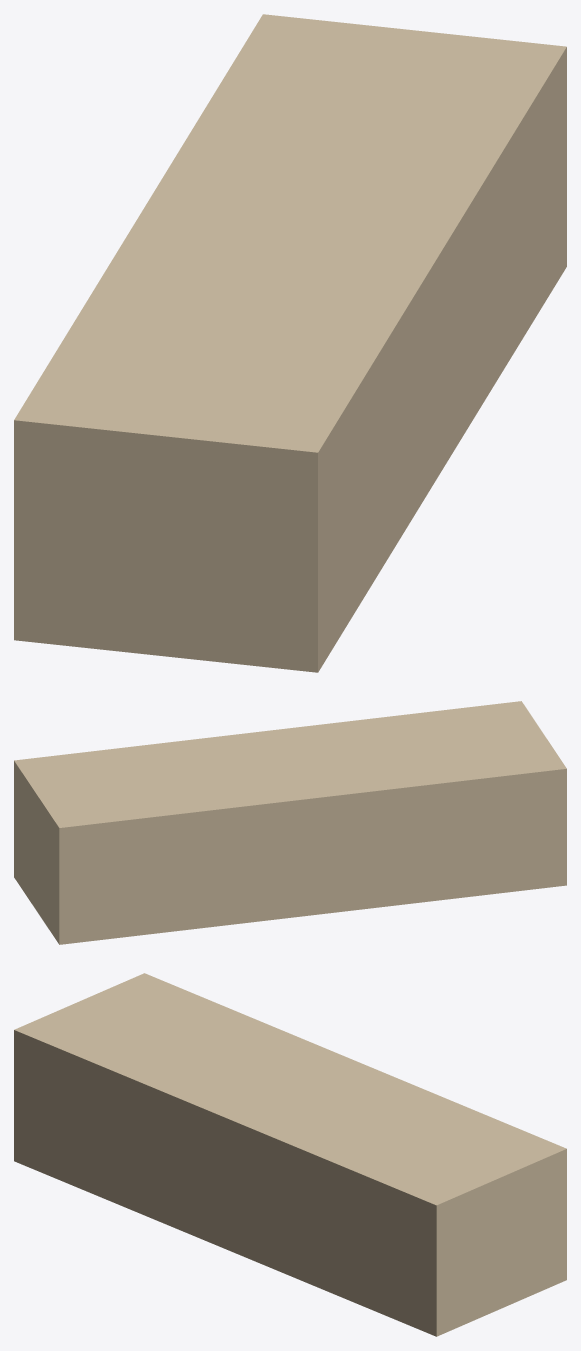
File: 17_4-estimated-coarse.glb
3 views of the same model, one above another, from view 1: azimuth 30°, elevation 25°; view 2: azimuth 150°, elevation 25°; view 3: azimuth 270°, elevation 25° (orthographic). The views are drawn at different scales.
Bounding box in the file's own units: 45.52 × 12 × 45.78.
